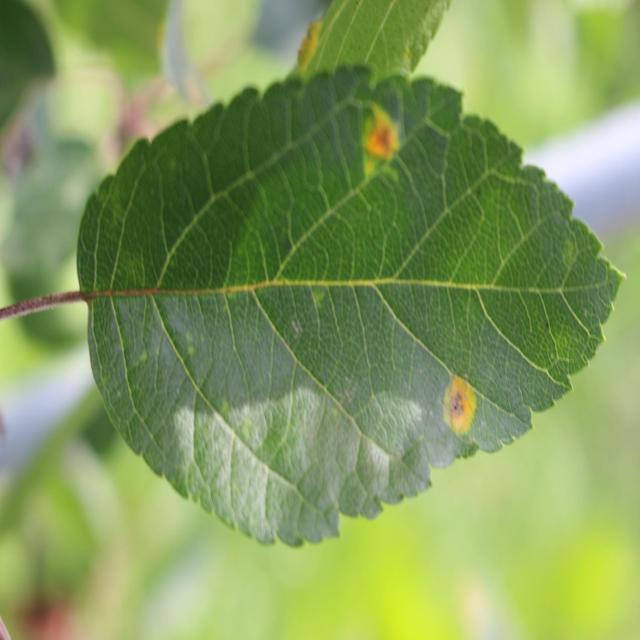Rust: (357, 91, 412, 203), (432, 346, 477, 451)
